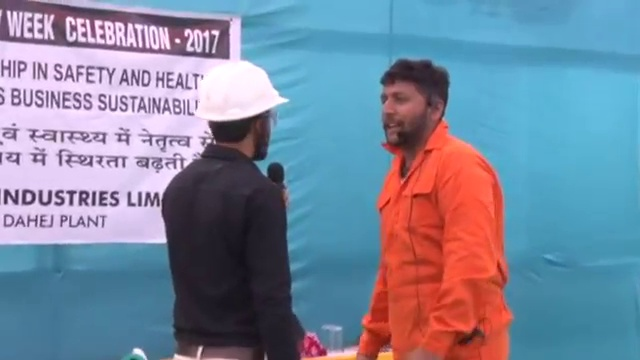helmet: (192, 60, 291, 121)
helmet_off: (379, 59, 450, 149)
helmet_on: (191, 60, 291, 161)
person: (346, 57, 517, 360), (158, 57, 310, 360)
